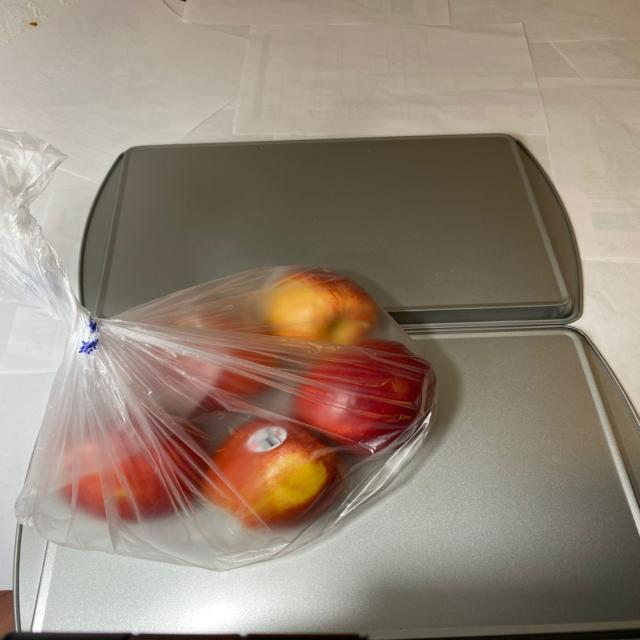apple: (48, 266, 440, 537)
